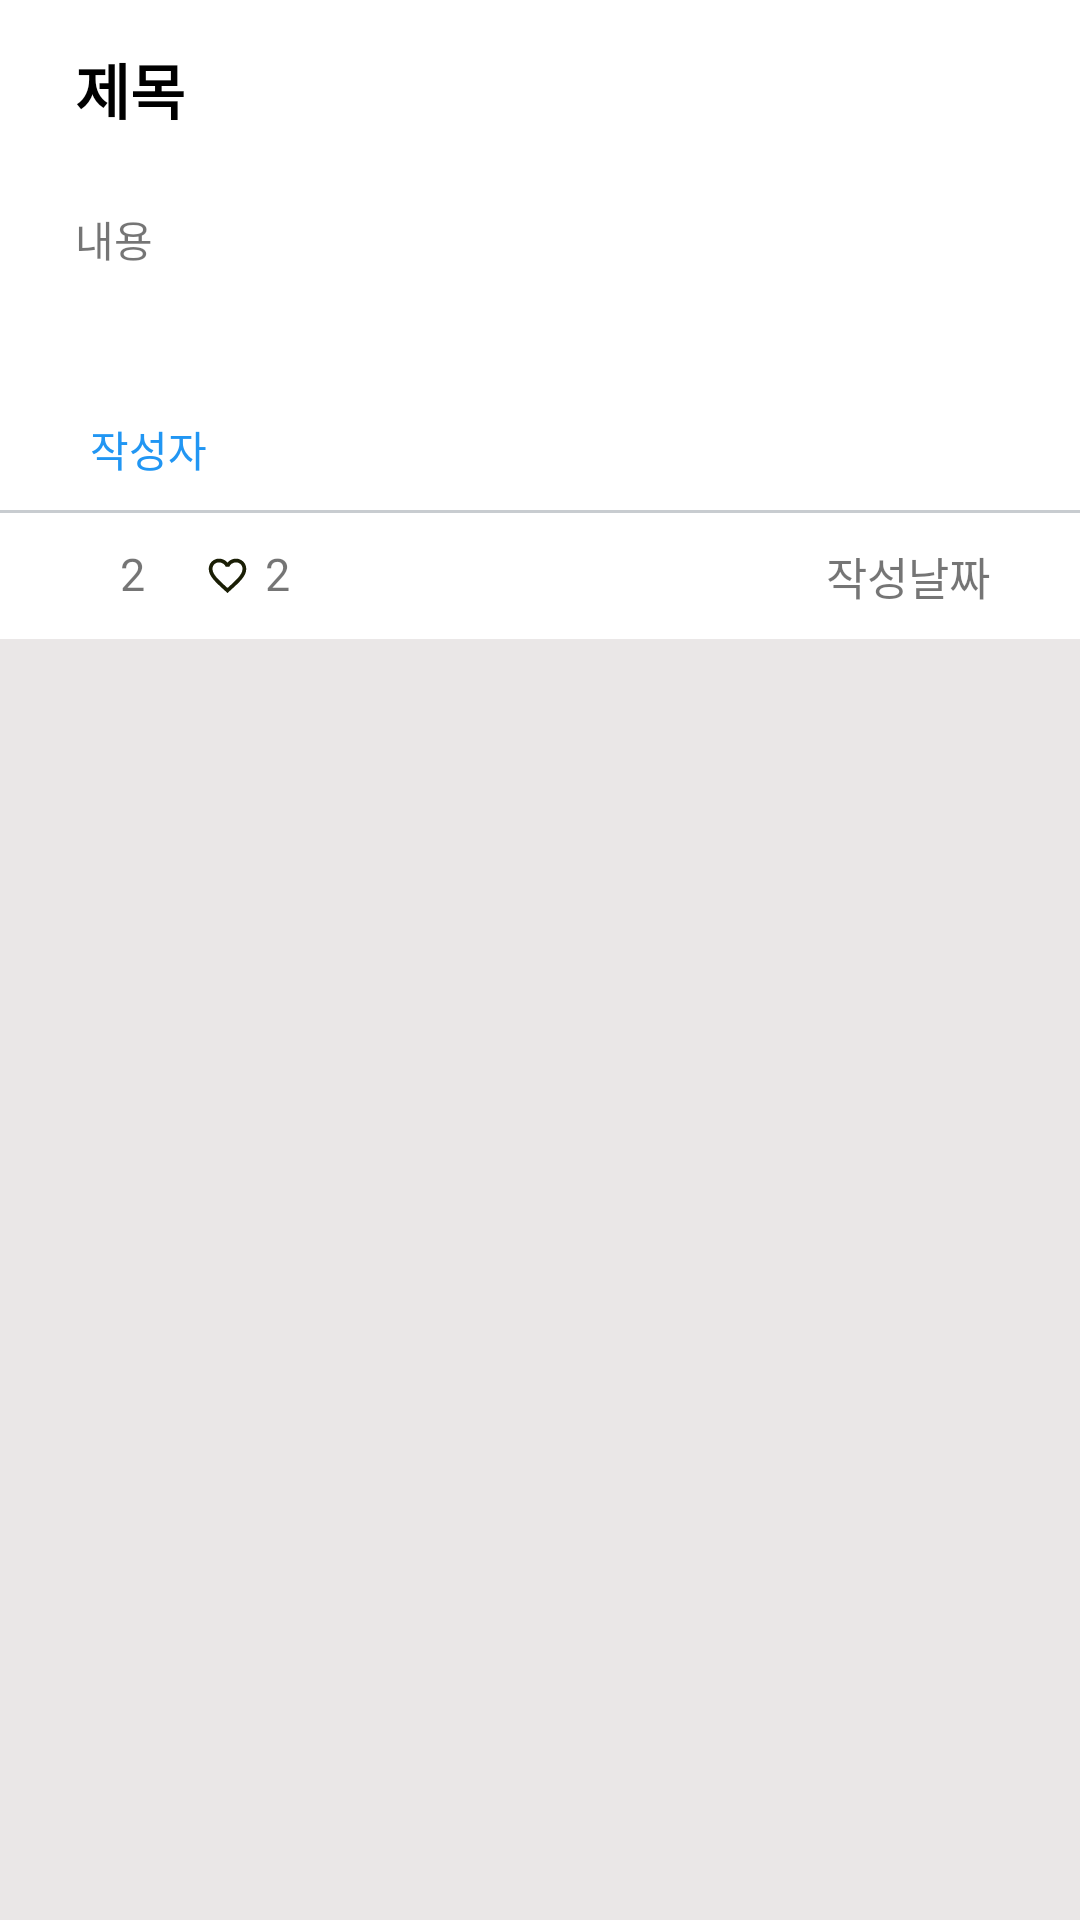

Icon bounding boxes for this 1080*1920 phone screenshot, format {"left": x1, "top": y1, "right": x2, "bottom": y2}:
favorite border: {"left": 208, "top": 558, "right": 247, "bottom": 593}
